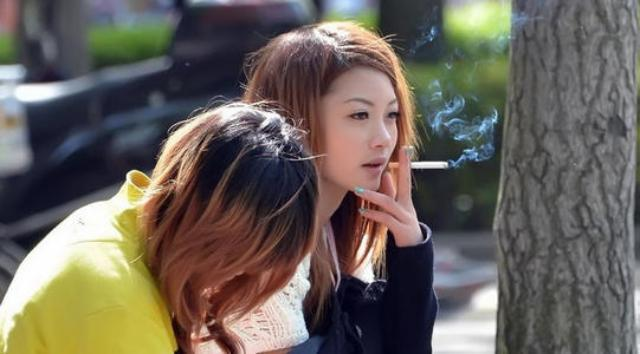SafeDriving: (342, 101, 374, 126), (382, 100, 404, 127)
Smoking: (388, 158, 456, 174)
